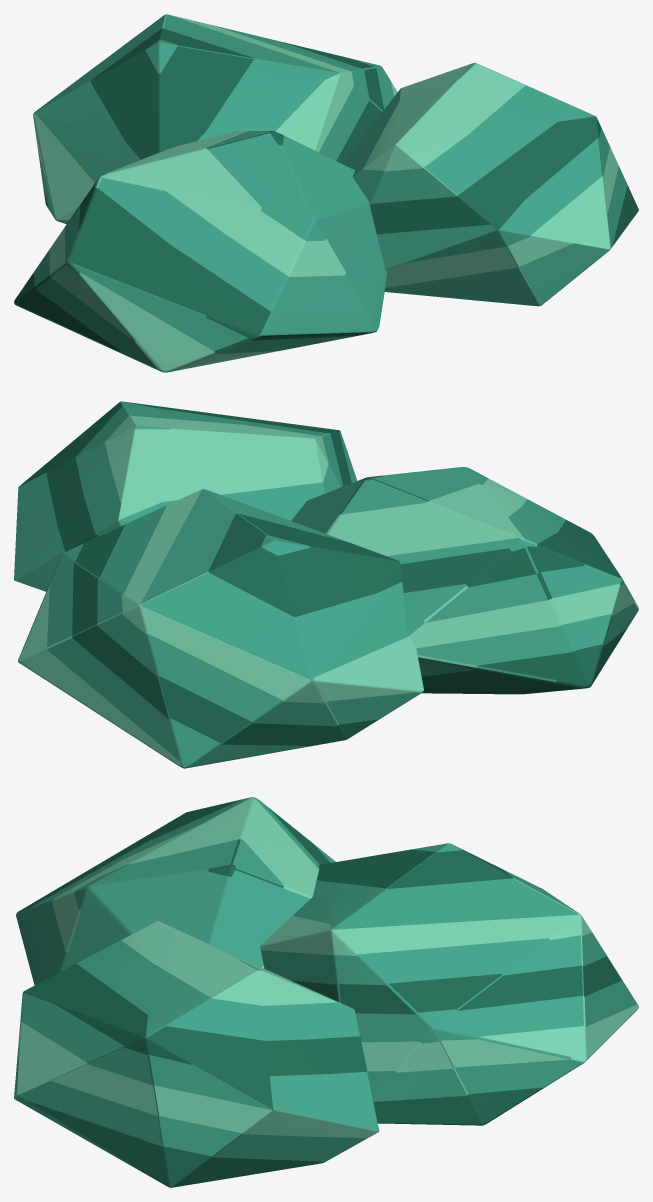
Rendered from minerai_cuivre_2.glb.
3 renders of one model, top to bottom at view 1: azimuth 30°, elevation 25°; view 2: azimuth 150°, elevation 25°; view 3: azimuth 270°, elevation 25°, orthographic. The views are drawn at different scales.
Visible parts, largest first — view 1: minerai_malachite.004, minerai_malachite_claire.004, minerai_malachite_sombre.004; view 2: minerai_malachite.004, minerai_malachite_claire.004, minerai_malachite_sombre.004; view 3: minerai_malachite.004, minerai_malachite_claire.004, minerai_malachite_sombre.004.
Part boxes in pixels (bbox=[...]): minerai_malachite.004: bbox=[33, 14, 631, 371]; minerai_malachite_claire.004: bbox=[33, 14, 618, 372]; minerai_malachite_sombre.004: bbox=[14, 28, 638, 353]; minerai_malachite.004: bbox=[14, 401, 638, 768]; minerai_malachite_claire.004: bbox=[16, 415, 638, 767]; minerai_malachite_sombre.004: bbox=[19, 401, 627, 746]; minerai_malachite.004: bbox=[14, 797, 638, 1164]; minerai_malachite_claire.004: bbox=[16, 797, 638, 1138]; minerai_malachite_sombre.004: bbox=[15, 799, 621, 1187].
Bounding box in the file's own units: 0.5586 × 0.1454 × 0.4976.
